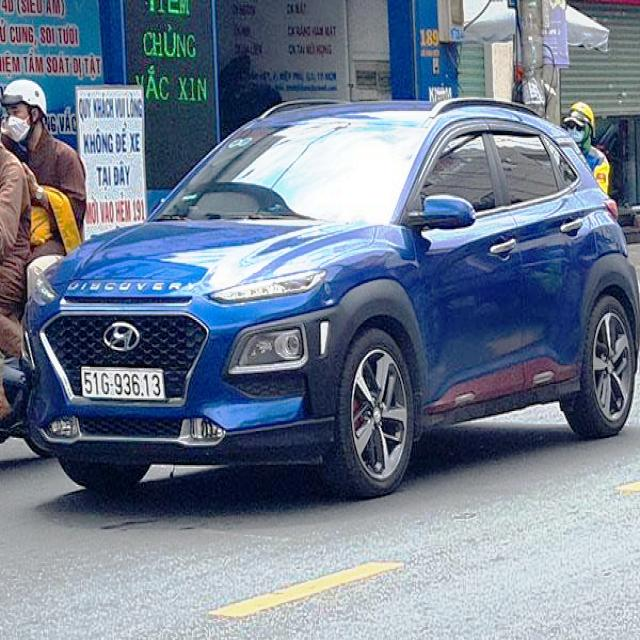license_plate: (83, 367, 167, 400)
